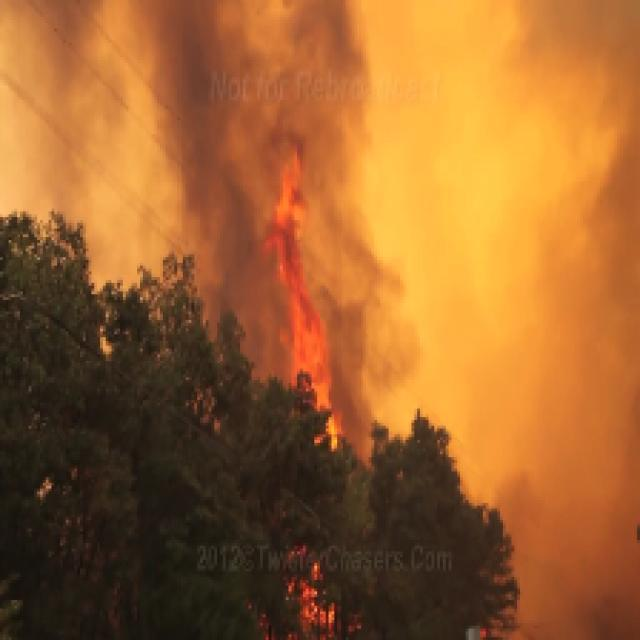Fire: (268, 146, 346, 394)
Smoke: (160, 20, 423, 134)
